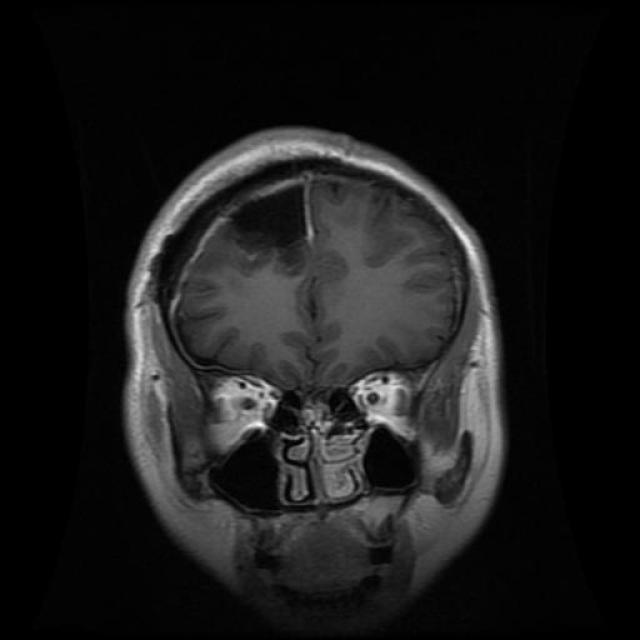Brain-Tumor: (222, 176, 324, 286)
eye: (349, 368, 414, 427), (211, 375, 278, 432)
